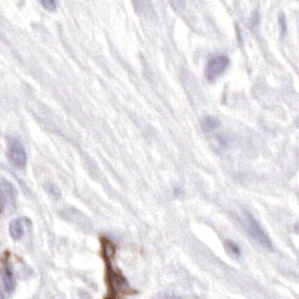Lymphocyte: (104, 268, 132, 296)
